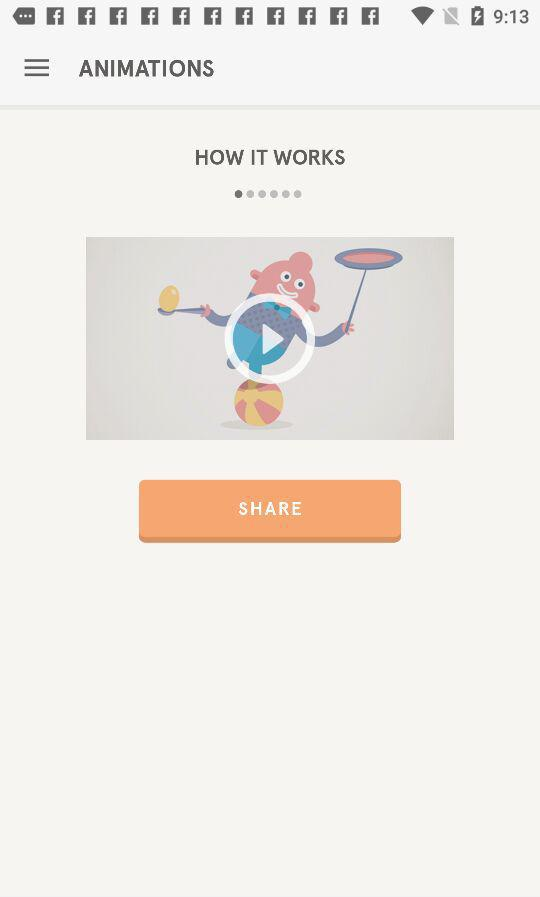Icon: (24, 58, 51, 78)
Image: (86, 237, 455, 441)
PageIndicator: (234, 190, 304, 200)
Text: (195, 149, 347, 167), (79, 60, 215, 79)
TextButton: (139, 479, 402, 544)
Toolbar: (1, 28, 540, 110)
UpperTaskBar: (1, 1, 540, 28)
